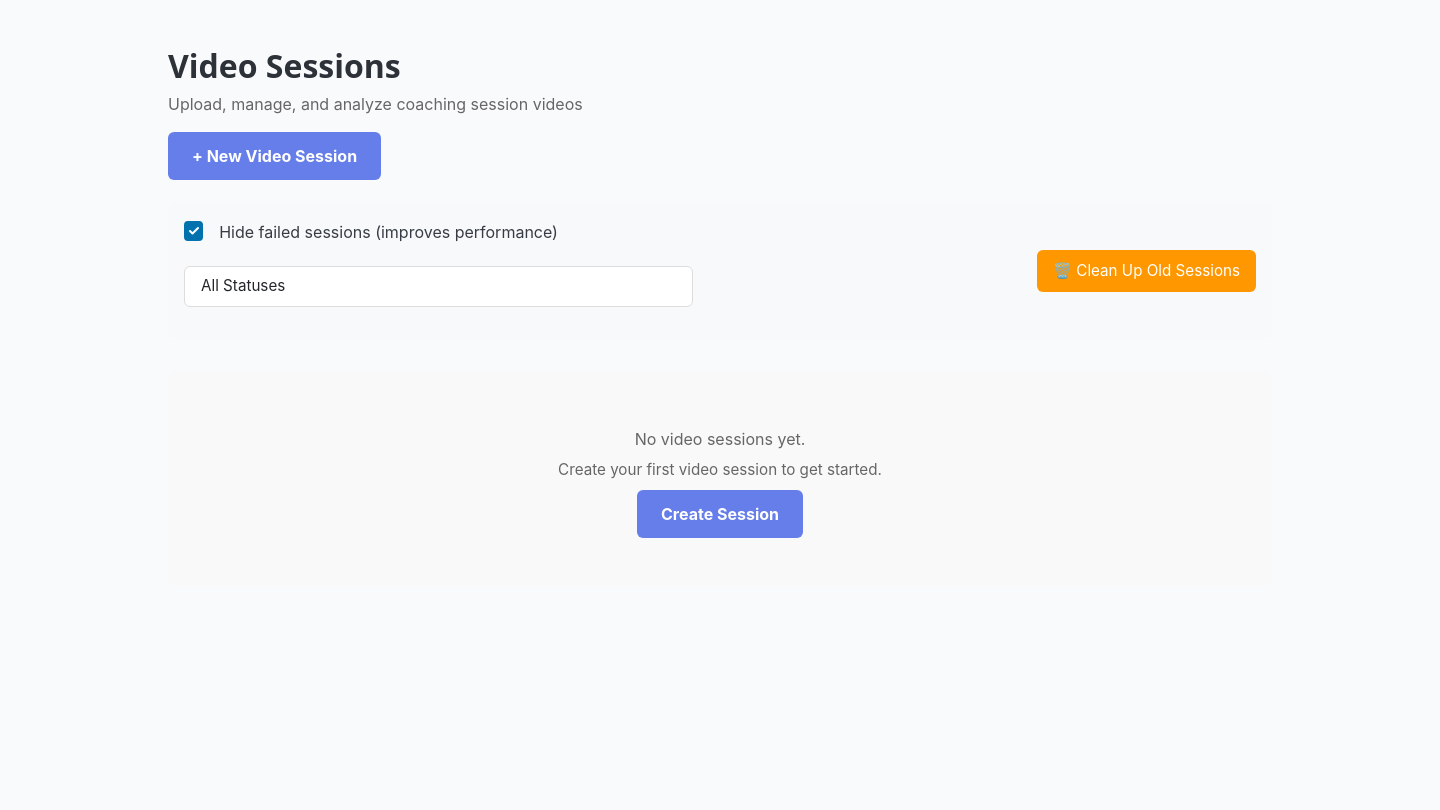
CoachProPlusVideoSessionsView › uses player-centered create form fields instead of manual player ID textarea
Click the button "+ New Video Session" at (275, 156), box [168,132,381,180]
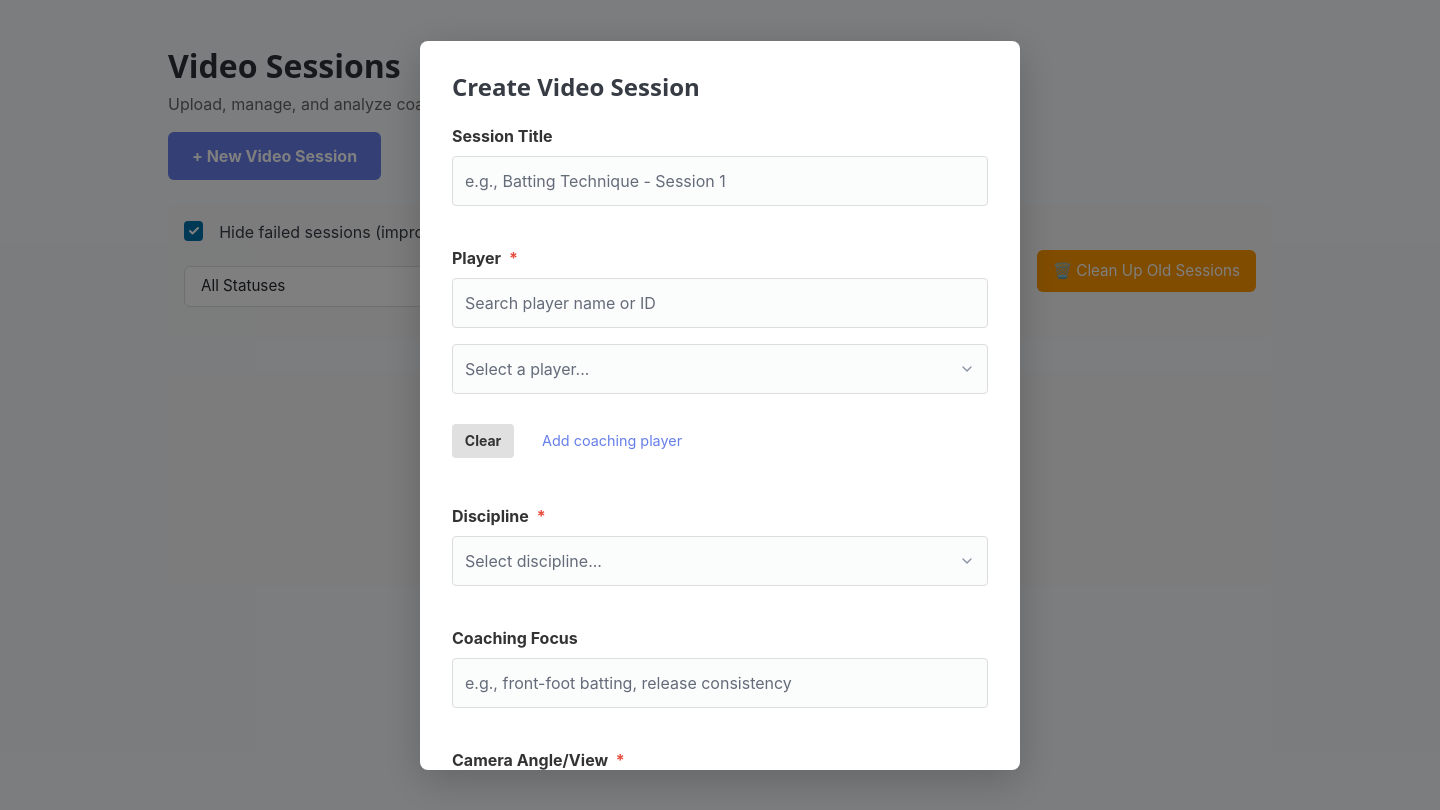
expect the text "Discipline" is shown: met, box [452,506,533,526]
expect the text "Add coaching player" is shown: met, box [526,418,698,464]
